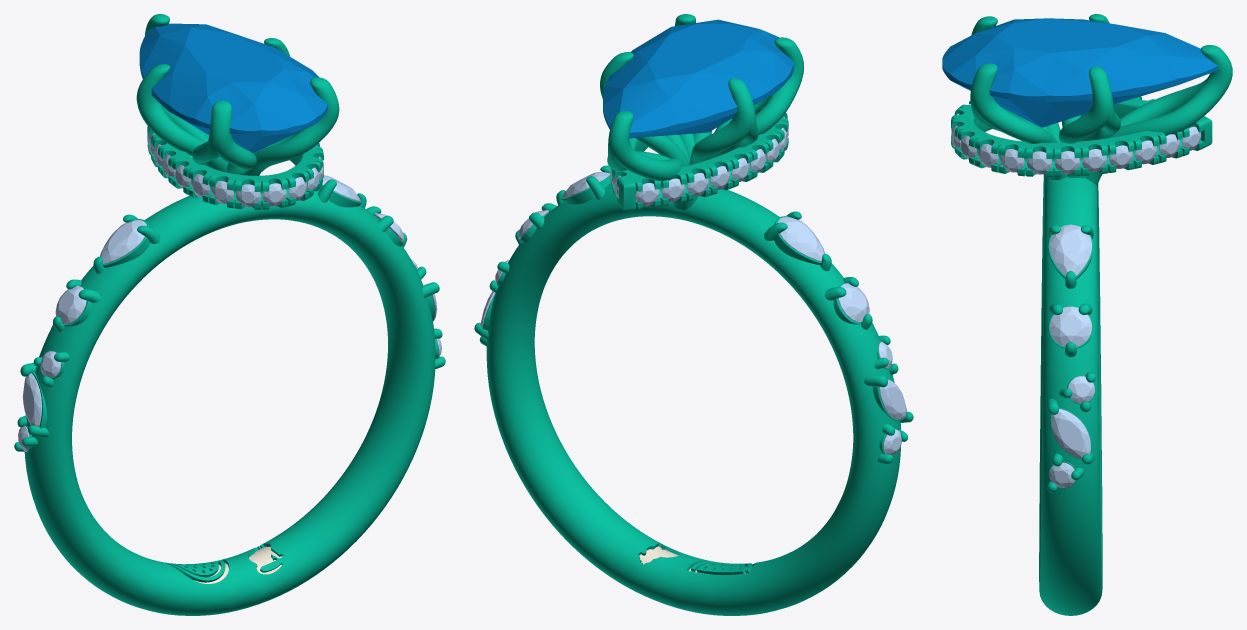
3 renders of one model, left to right at view 1: azimuth 30°, elevation 25°; view 2: azimuth 150°, elevation 25°; view 3: azimuth 270°, elevation 25°, orthographic.
Parts seen in each view (by area): view 1: ;SOLID, Diamond_Pear (×3), Diamond_Round, Diamond_Marquise, ZB-269.3dm; view 2: ;SOLID, Diamond_Pear (×3), Diamond_Round, Diamond_Marquise; view 3: ;SOLID, Diamond_Pear (×3), Diamond_Round (×3), GemOnCrv (×5), Diamond_Marquise.
Boxes of the visible parts, x1,y1,x2,y2 form: ;SOLID: (14, 14, 445, 615); Diamond_Pear (×3): (100, 23, 327, 264); Diamond_Round: (55, 285, 86, 324); Diamond_Marquise: (22, 373, 41, 427); ZB-269.3dm: (194, 546, 282, 583); ;SOLID: (474, 14, 913, 615); Diamond_Pear (×3): (603, 19, 824, 261); Diamond_Round: (838, 283, 869, 322); Diamond_Marquise: (879, 379, 907, 419); ;SOLID: (951, 14, 1232, 615); Diamond_Pear (×3): (942, 18, 1218, 275); Diamond_Round (×3): (1049, 306, 1094, 487); GemOnCrv (×5): (1000, 145, 1132, 174); Diamond_Marquise: (1051, 409, 1090, 458).
Size of the model in its own units: 2.33 by 2.94 by 1.39.
